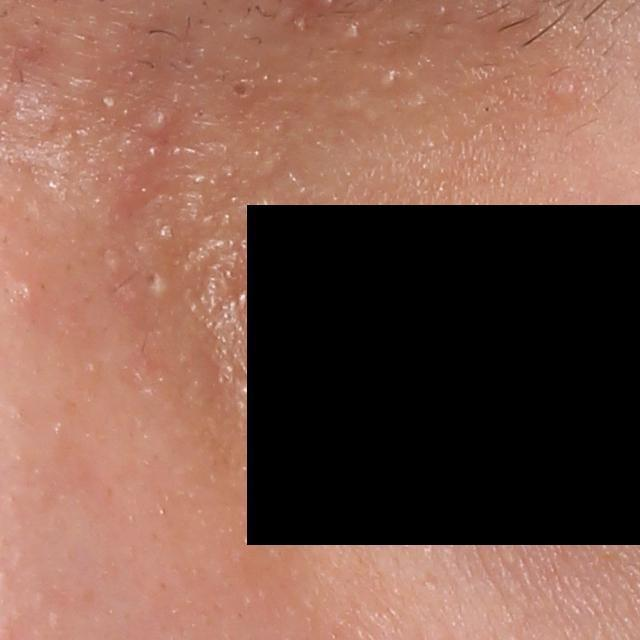comedo: (222, 71, 259, 102), (380, 70, 403, 91), (342, 24, 364, 44), (18, 280, 35, 303)
